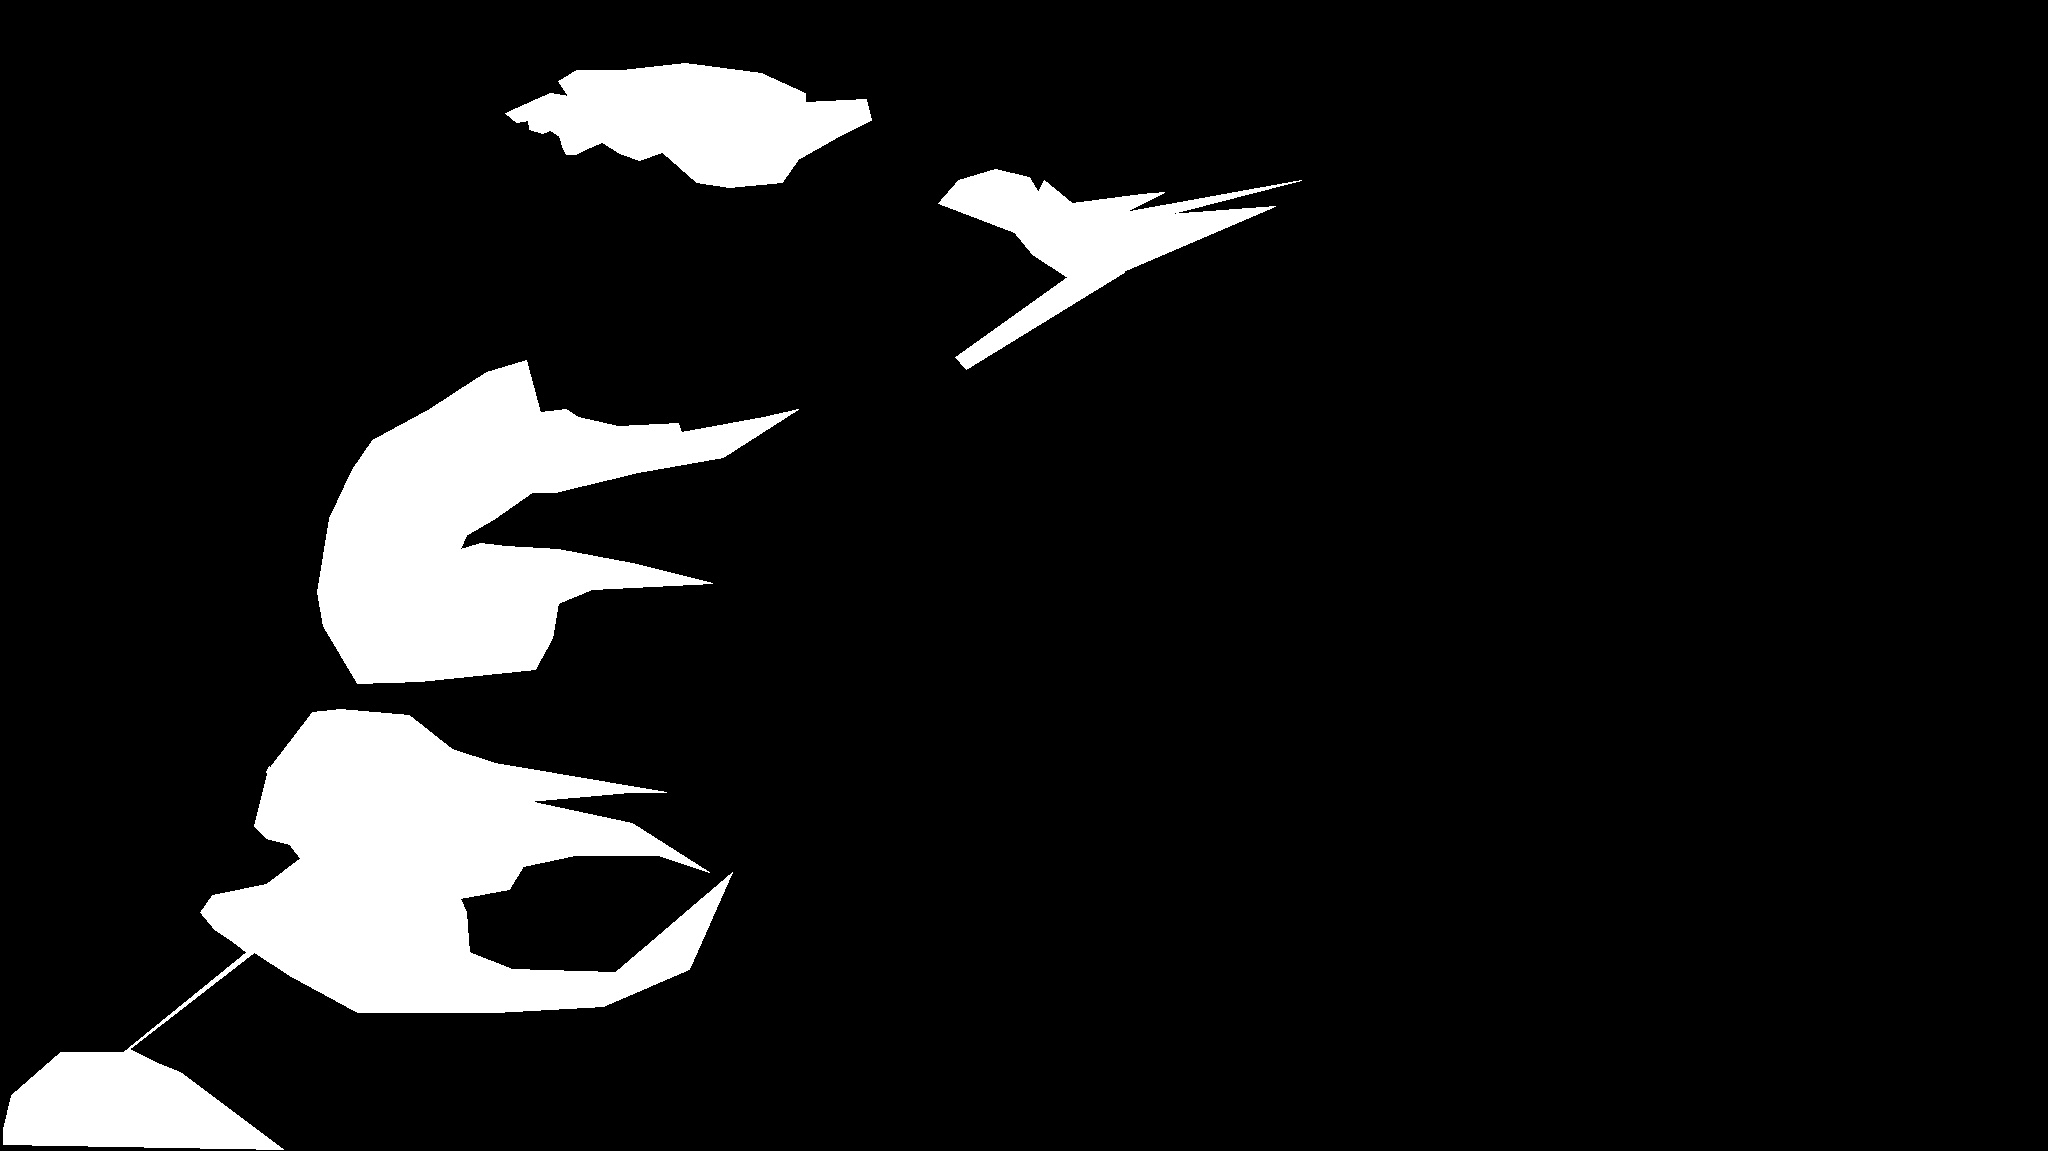Fire: (307, 379, 667, 680), (217, 711, 522, 986), (508, 72, 810, 153), (940, 170, 1158, 281)
